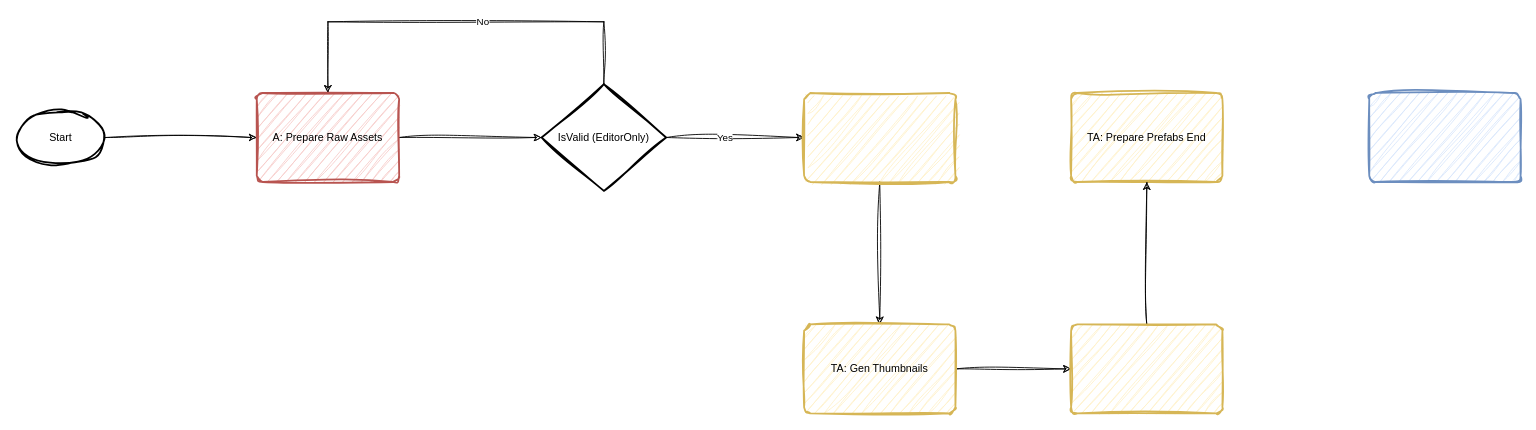
The diagram is 1536 pixels wide and 430 high, and some of its shapes have lost their labels. Here are the shapes that lost their labels. From the top down, the box of each, then its label:
(803, 92, 956, 182): TA: Prepare Prefabs Begin
(1368, 92, 1521, 182): T: Prepare Prefabs End
(1070, 323, 1223, 414): TA: Make DataTables
